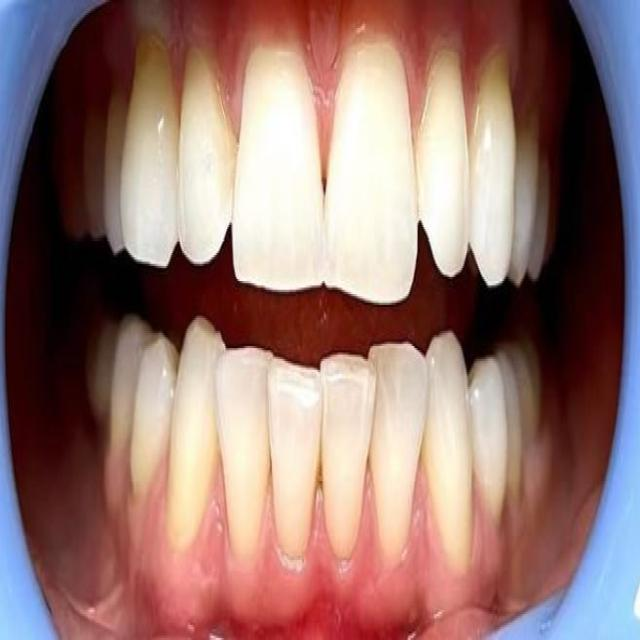1st Molar: (508, 336, 542, 441), (85, 318, 115, 426), (53, 141, 84, 242)
1st Premolar: (131, 331, 179, 494), (471, 358, 507, 524), (102, 95, 128, 255), (513, 119, 538, 284)
2nd Premolar: (109, 316, 154, 463), (499, 353, 523, 493), (82, 112, 104, 240), (528, 162, 551, 281)
Canine: (120, 39, 179, 270), (167, 318, 223, 554), (425, 328, 474, 579), (468, 52, 515, 288)
Central Incisor: (323, 32, 419, 305), (232, 40, 325, 294), (266, 359, 321, 569), (320, 355, 376, 560)
Lateral Incisor: (365, 341, 429, 558), (413, 47, 470, 279), (214, 344, 273, 562), (178, 48, 234, 266)
